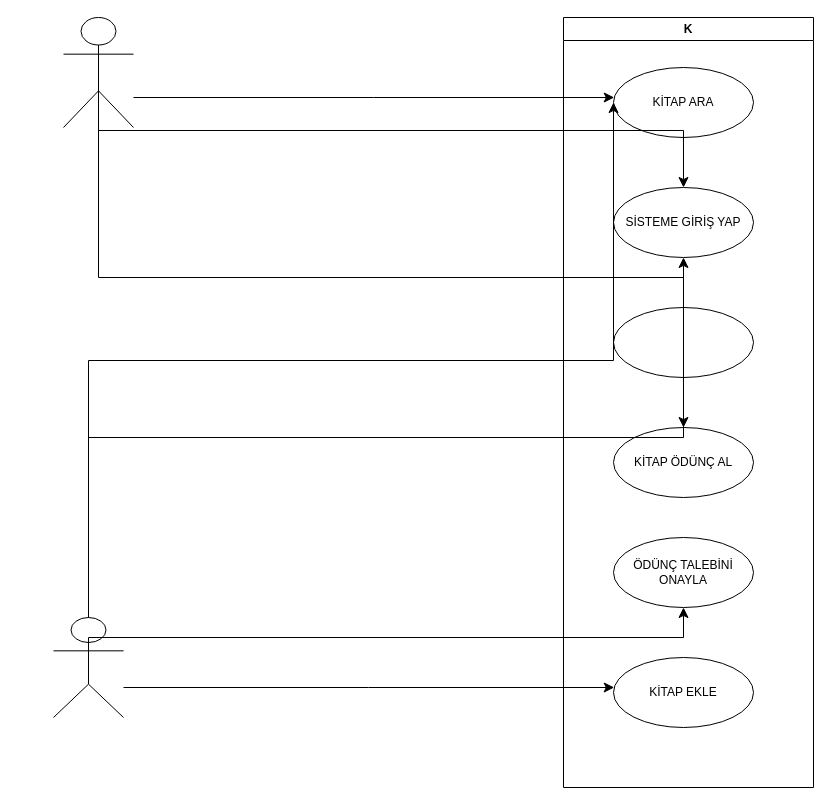
Some shapes in this 831 by 805 pixel diagram are drawn without their labels. Each missing label, with the box of its shape:
KÜTÜPHANE GÖREVLİSİ: (52, 616, 124, 718)
KÜTÜPHANE ÜYESİ: (62, 16, 134, 128)
SÜRE UZAT: (612, 306, 754, 378)
